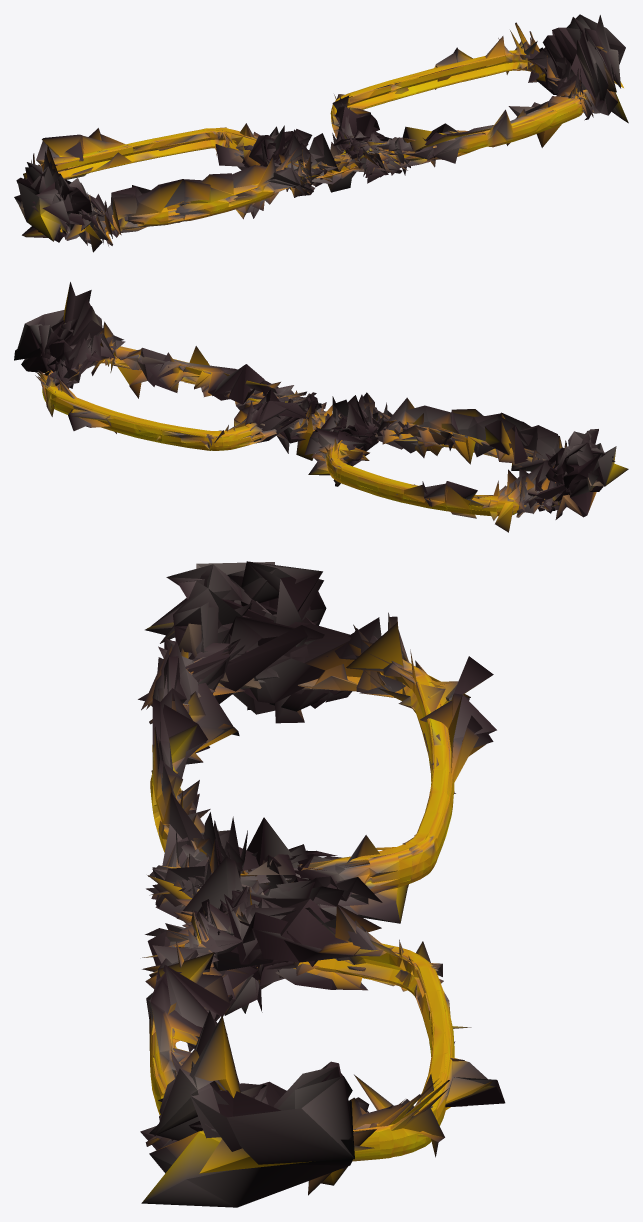
The model's file is eyeglass1_final300.obj.
3 views of the same model, one above another, from view 1: azimuth 30°, elevation 25°; view 2: azimuth 150°, elevation 25°; view 3: azimuth 270°, elevation 25° (orthographic). The views are drawn at different scales.
Size of the model in its own units: 1.98 by 0.3789 by 0.5542.
